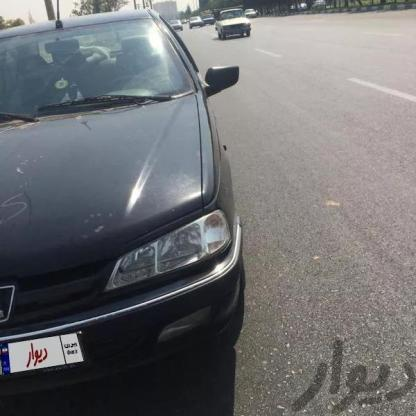Car: (0, 0, 249, 380), (212, 6, 250, 42), (191, 16, 200, 35)
